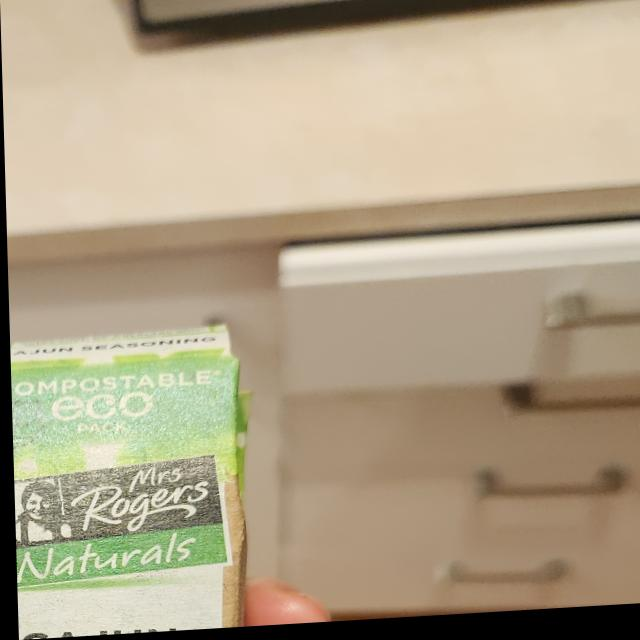cajun: (8, 318, 246, 640)
